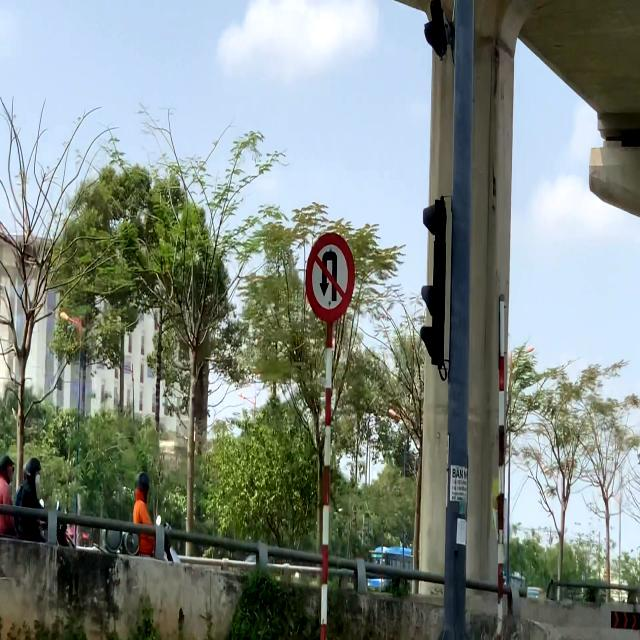Cam quay dau xe: (304, 230, 358, 323)
